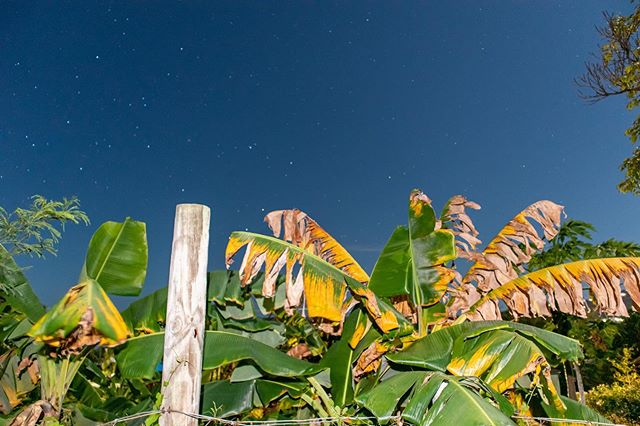sky: (1, 1, 621, 206)
vegetation: (7, 213, 640, 426)
